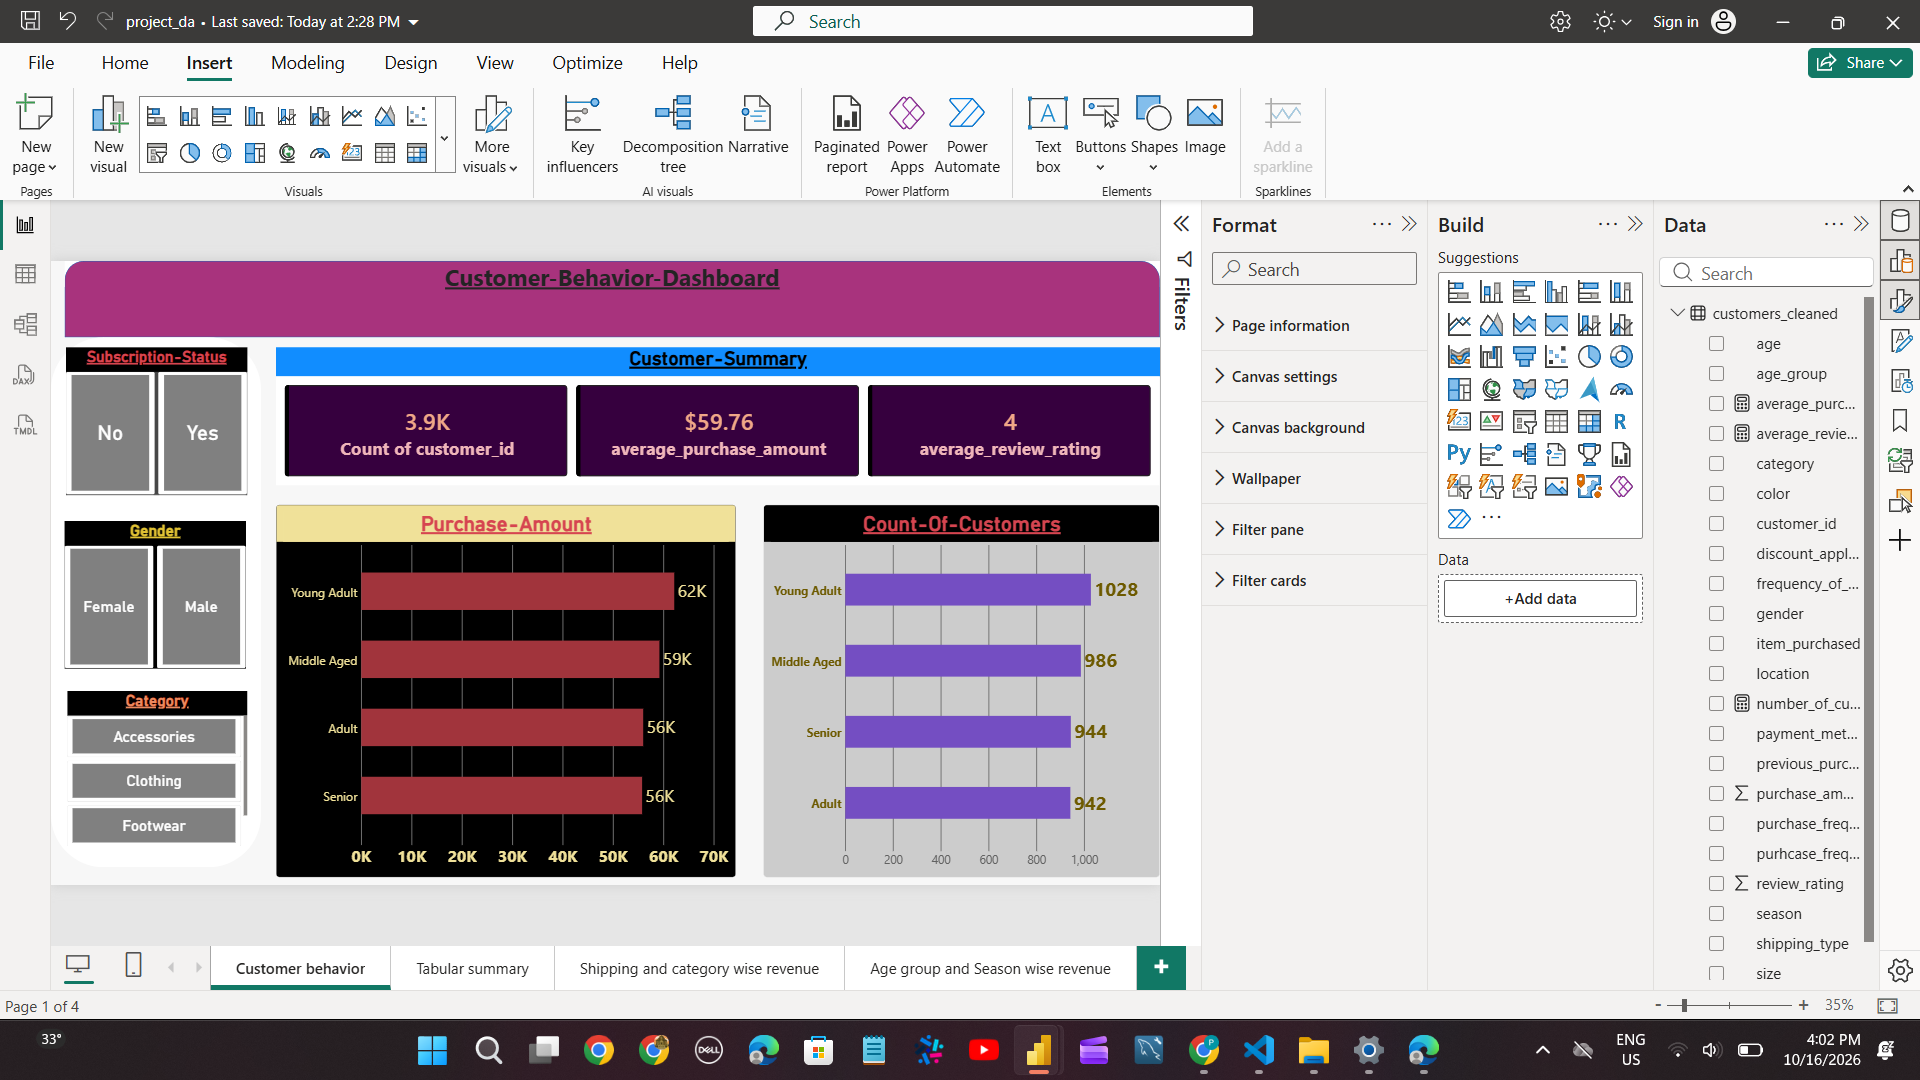

The page's visual inventory and layout, read from the dashboard file:
{"tool":"powerbi","page":{"name":"Customer behavior","canvas":[2560,1440],"ordinal":0},"visuals":[{"type":"cardVisual","title":"Customer-Summary","fields":{"Data":["CountNonNull(customers_cleaned.customer_id)","customers_cleaned.average_purchase_amount","customers_cleaned.average_review_rating"]},"box":[518.8,197.9,2041.3,318.5],"z":0},{"type":"shape","box":[32,0,2528,176],"z":1000},{"type":"textbox","box":[32,0,2528,149.3],"z":2000},{"type":"shape","box":[0,176,485,1223.3],"z":9000},{"type":"advancedSlicerVisual","title":"Subscription-Status","fields":{"Values":["customers_cleaned.subscription_status"]},"box":[34.6,199.1,418.4,340.5],"z":10000},{"type":"advancedSlicerVisual","title":"Gender","fields":{"Values":["customers_cleaned.gender"]},"box":[31.7,600.2,418.4,340.5],"z":11000},{"type":"advancedSlicerVisual","title":"Category","fields":{"Values":["customers_cleaned.category"]},"box":[37.5,992.6,415.5,357.8],"z":12000},{"type":"barChart","title":"Purchase-Amount","fields":{"Category":["customers_cleaned.age_group"],"Y":["Sum(customers_cleaned.purchase_amount)"]},"box":[519.4,562.7,1061.9,859.9],"z":14000},{"type":"barChart","title":"Count-Of-Customers","fields":{"Category":["customers_cleaned.age_group"],"Y":["CountNonNull(customers_cleaned.customer_id)"]},"box":[1644.7,562.7,914.7,859.9],"z":15000}]}

Visuals, with their boxes on the page's 2560x1440 design canvas (x1, y1, x2, y2). These are canvas units, not pixel positions in the 1920x1080 screenshot, which may show the page scaled, cropped or inside an application window:
"Customer-Summary" cardVisual: x1=519, y1=198, x2=2560, y2=516
shape: x1=32, y1=0, x2=2560, y2=176
textbox: x1=32, y1=0, x2=2560, y2=149
shape: x1=0, y1=176, x2=485, y2=1399
"Subscription-Status" advancedSlicerVisual: x1=35, y1=199, x2=453, y2=540
"Gender" advancedSlicerVisual: x1=32, y1=600, x2=450, y2=941
"Category" advancedSlicerVisual: x1=38, y1=993, x2=453, y2=1350
"Purchase-Amount" barChart: x1=519, y1=563, x2=1581, y2=1423
"Count-Of-Customers" barChart: x1=1645, y1=563, x2=2559, y2=1423
